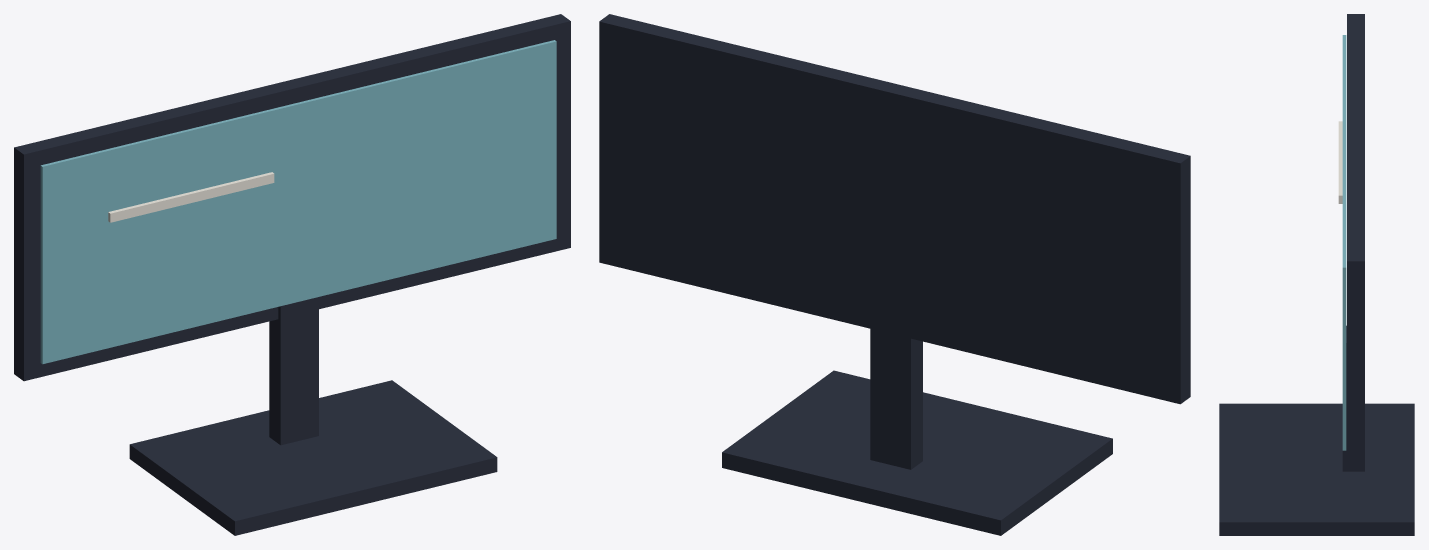
Rendered from portable-monitor.glb.
The picture shows the model from 3 angles, left to right: view 1: azimuth 30°, elevation 25°; view 2: azimuth 150°, elevation 25°; view 3: azimuth 270°, elevation 25°; orthographic projection. The views are drawn at different scales.
Visible parts, largest first — view 1: portable-monitor; view 2: portable-monitor; view 3: portable-monitor.
Boxes of the visible parts, x1,y1,x2,y2 form: portable-monitor: (14, 14, 570, 535); portable-monitor: (599, 14, 1190, 535); portable-monitor: (1219, 14, 1414, 535).
Bounding box in the file's own units: 36 × 23 × 12.
